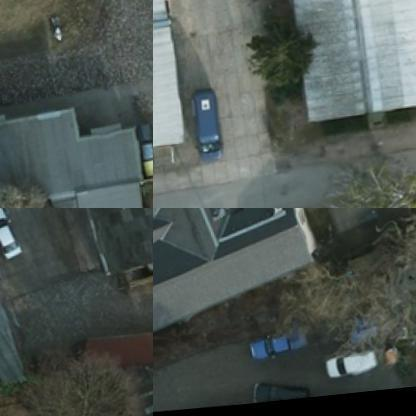car: (246, 332, 313, 368), (315, 353, 366, 386), (247, 387, 304, 407), (0, 208, 13, 262)
van: (187, 89, 216, 164)
